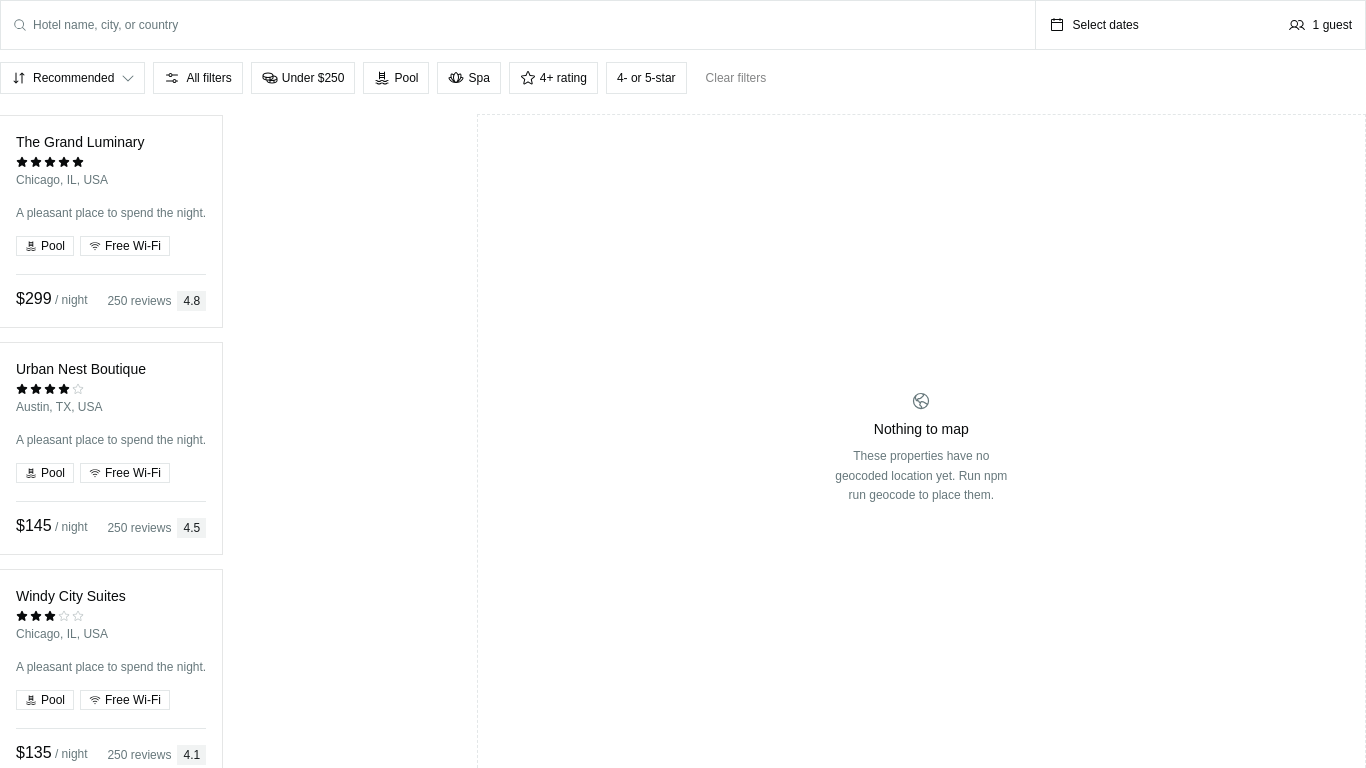
Test: HotelDiscovery › offers the city filter when the scope spans several cities
Click the button "All filters": (198, 78) [153, 62, 243, 94]
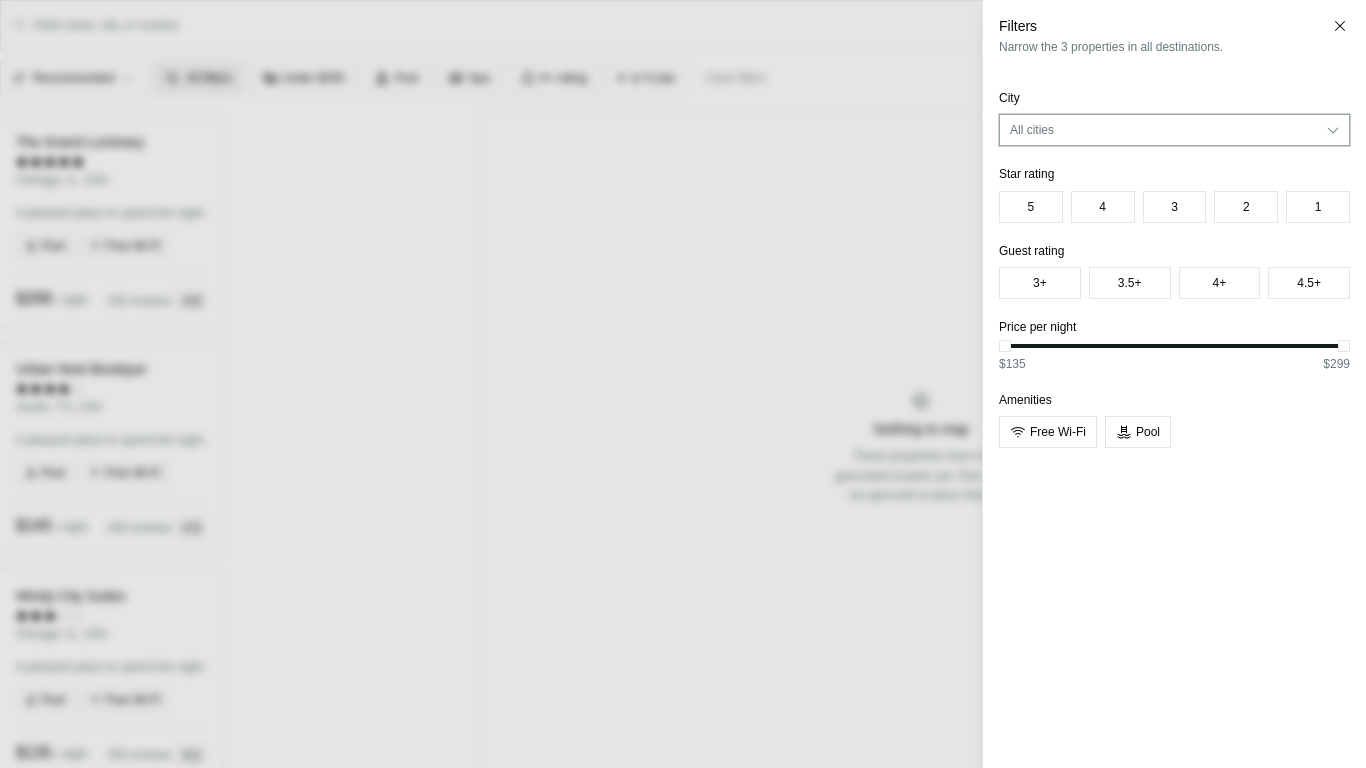
Check: the dropdown named "City" is shown, box [999, 114, 1350, 146]
